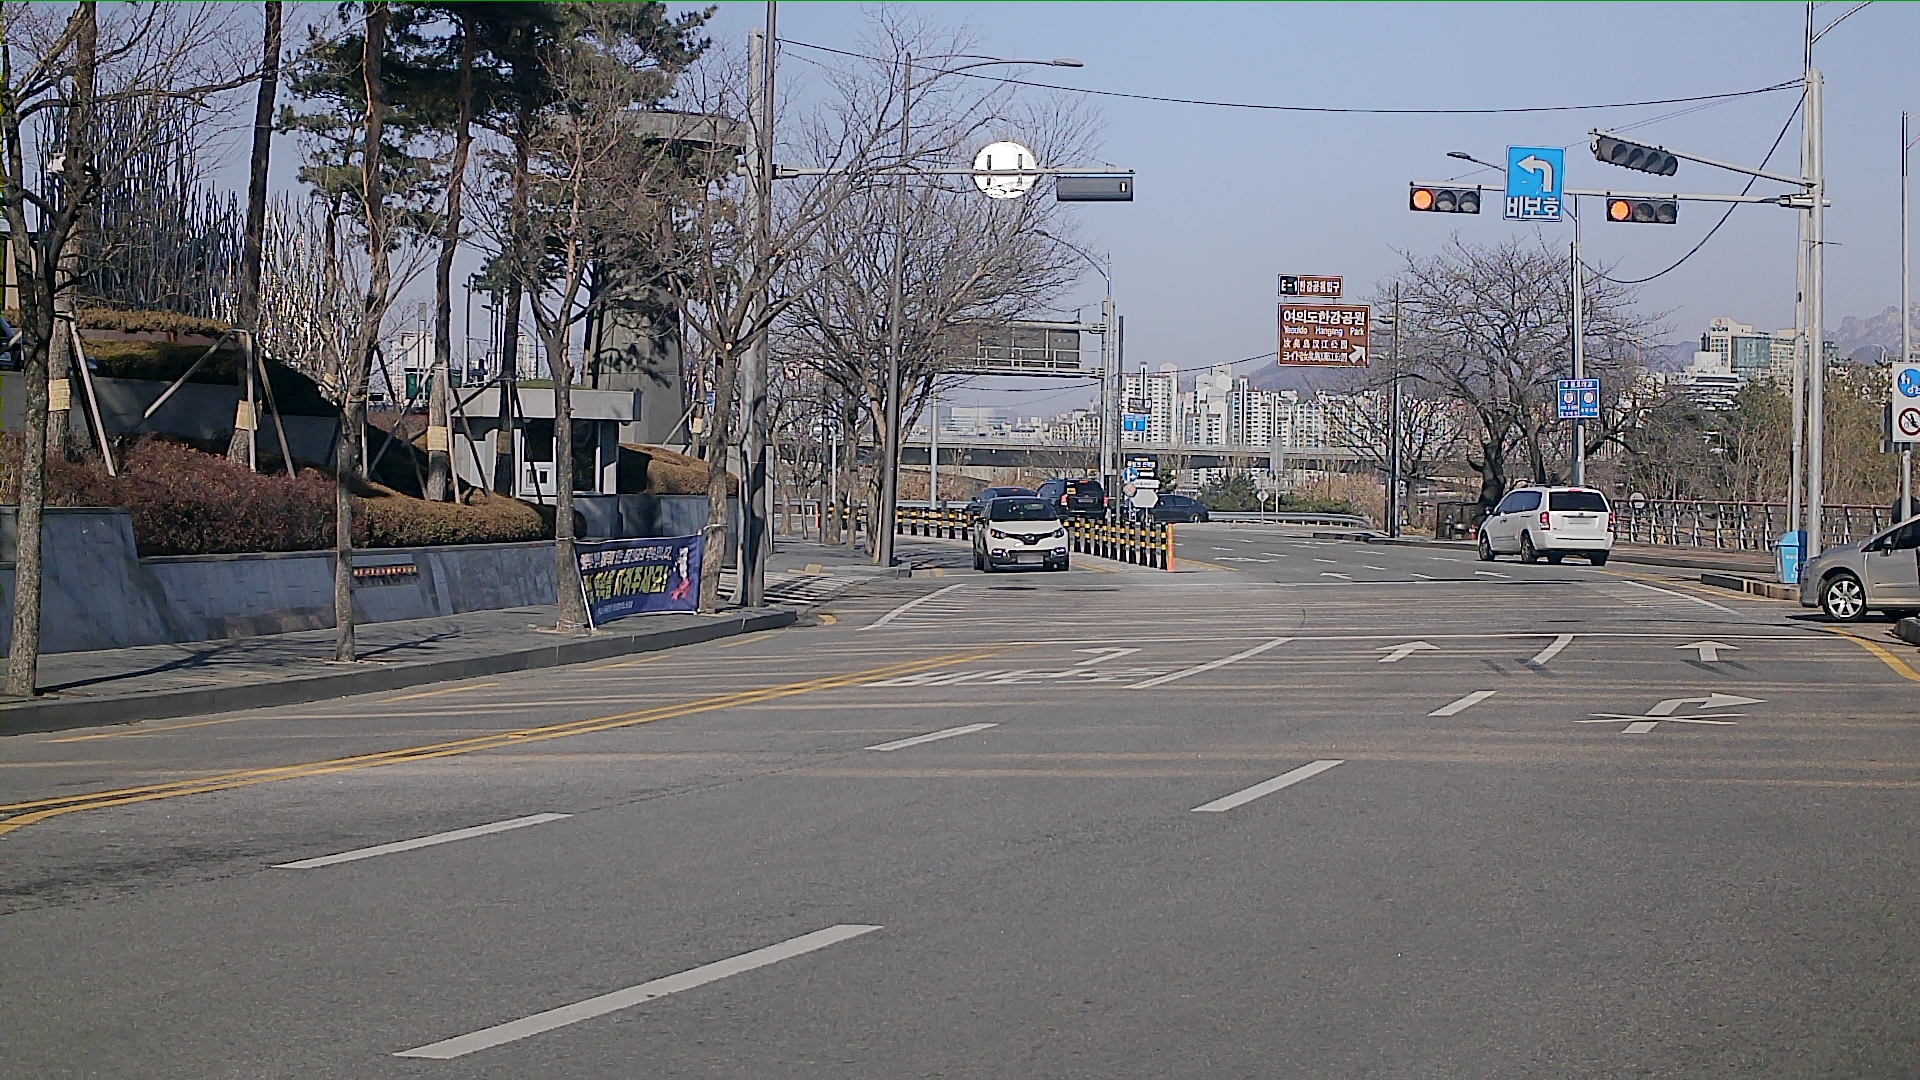trafficLight: (1406, 179, 1486, 216), (1604, 193, 1677, 231)
trafficSignRTG: (1505, 144, 1568, 220)
